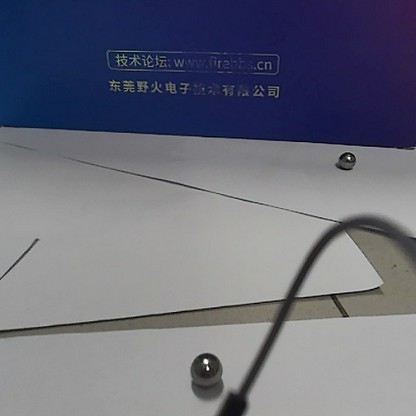ironball: (187, 349, 224, 389), (336, 150, 355, 170)
